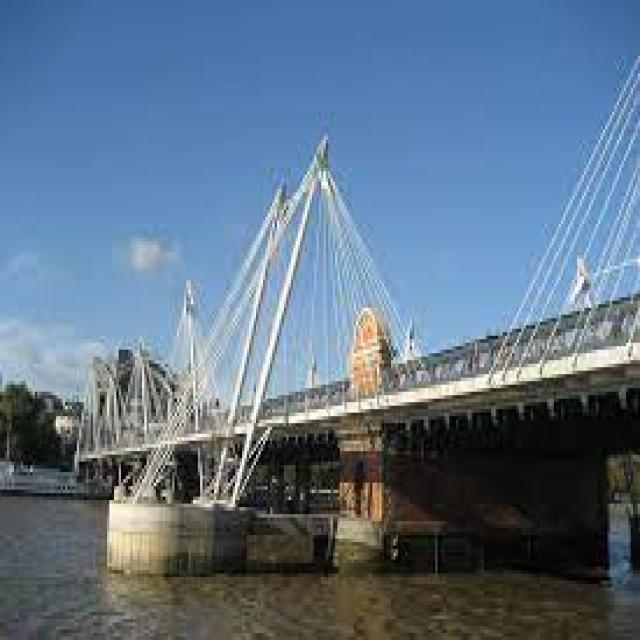Bridges: (70, 111, 640, 582)
